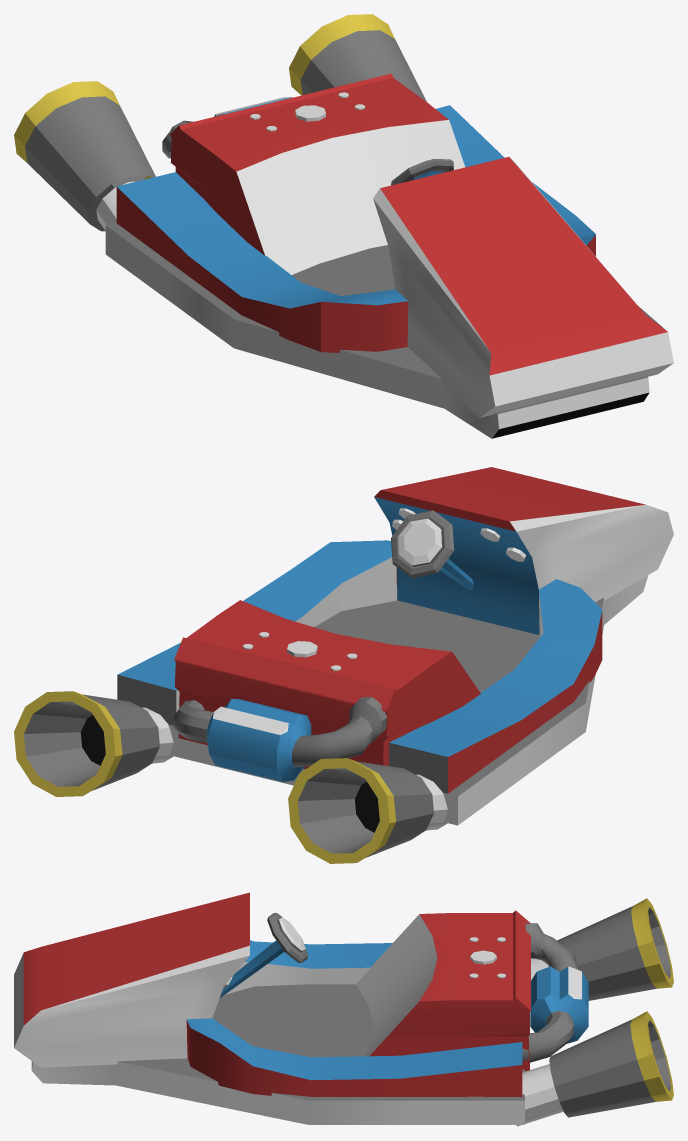
The model's file is Go_Kart.fbx.
The picture shows the model from 3 angles, top to bottom: view 1: azimuth 30°, elevation 25°; view 2: azimuth 150°, elevation 25°; view 3: azimuth 270°, elevation 25°; orthographic projection. The views are drawn at different scales.
Parts seen in each view (by area): view 1: Kart_Customs_05:pCube31; view 2: Kart_Customs_05:pCube31; view 3: Kart_Customs_05:pCube31.
Part boxes in pixels (x1,y1,x2,y2): Kart_Customs_05:pCube31: (14, 14, 673, 438); Kart_Customs_05:pCube31: (14, 467, 673, 863); Kart_Customs_05:pCube31: (14, 892, 673, 1126).
Bounding box in the file's own units: 123 × 55.91 × 222.
1 material, 1 textured.
